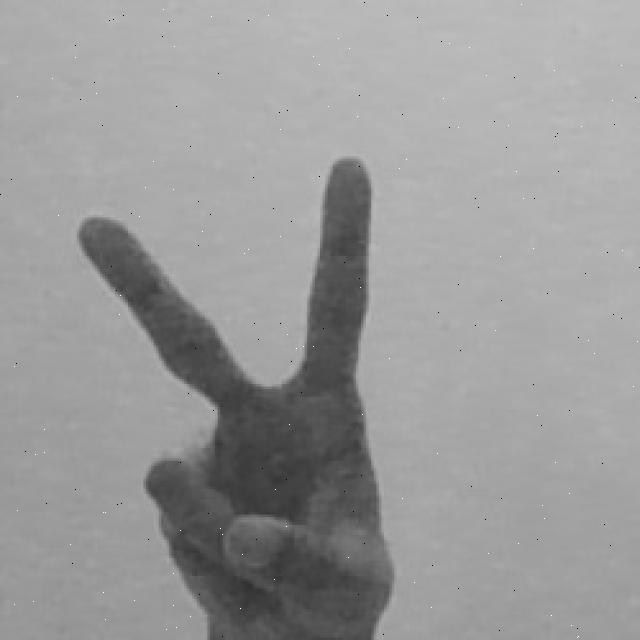V: (69, 148, 398, 640)
